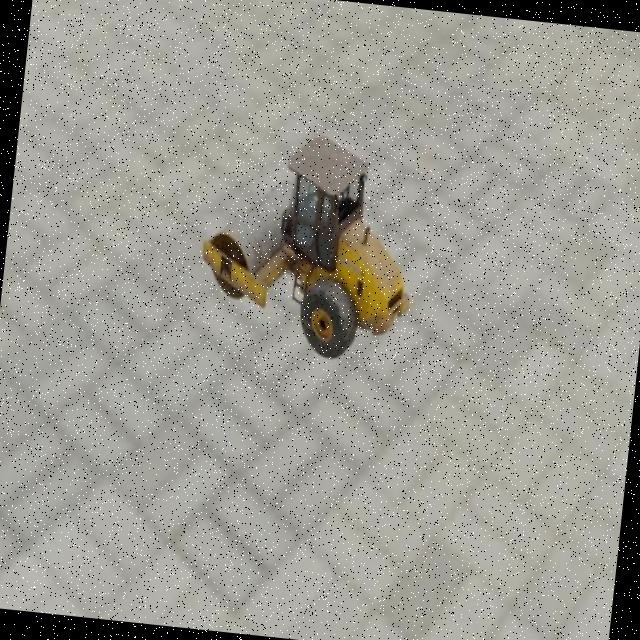Roller: (192, 124, 426, 366)
